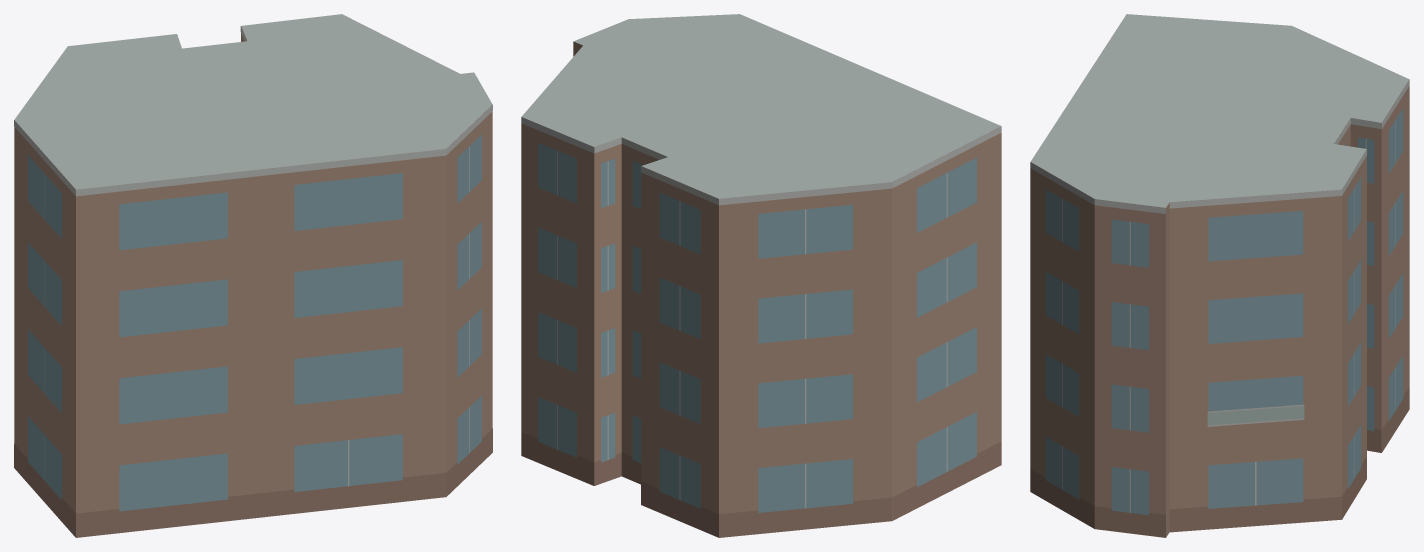
File: survey-upis-32490608.glb
3 renders of one model, left to right at view 1: azimuth 30°, elevation 25°; view 2: azimuth 150°, elevation 25°; view 3: azimuth 270°, elevation 25°, orthographic. The views are drawn at different scales.
Parts seen in each view (by area): view 1: survey-upis-32490608.tmp; view 2: survey-upis-32490608.tmp; view 3: survey-upis-32490608.tmp.
Boxes of the visible parts, x1,y1,x2,y2 form: survey-upis-32490608.tmp: [14, 14, 492, 537]; survey-upis-32490608.tmp: [521, 14, 1001, 537]; survey-upis-32490608.tmp: [1030, 14, 1409, 537].
Bounding box in the file's own units: 16.22 × 12.87 × 13.41.
